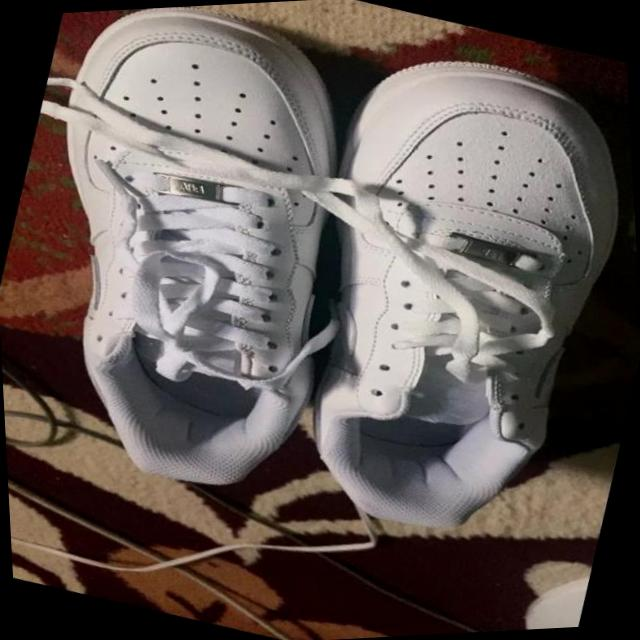nike_fake_airforce: (241, 22, 640, 576), (0, 0, 411, 517)
